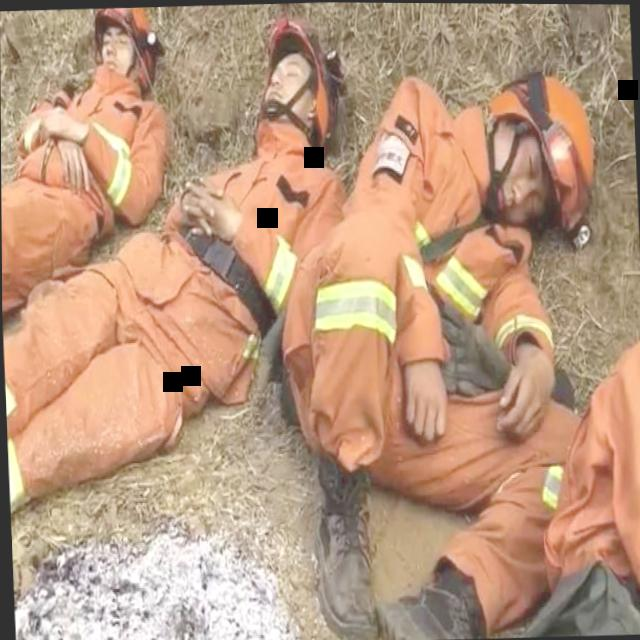Fall-Detected: (0, 19, 175, 414)
